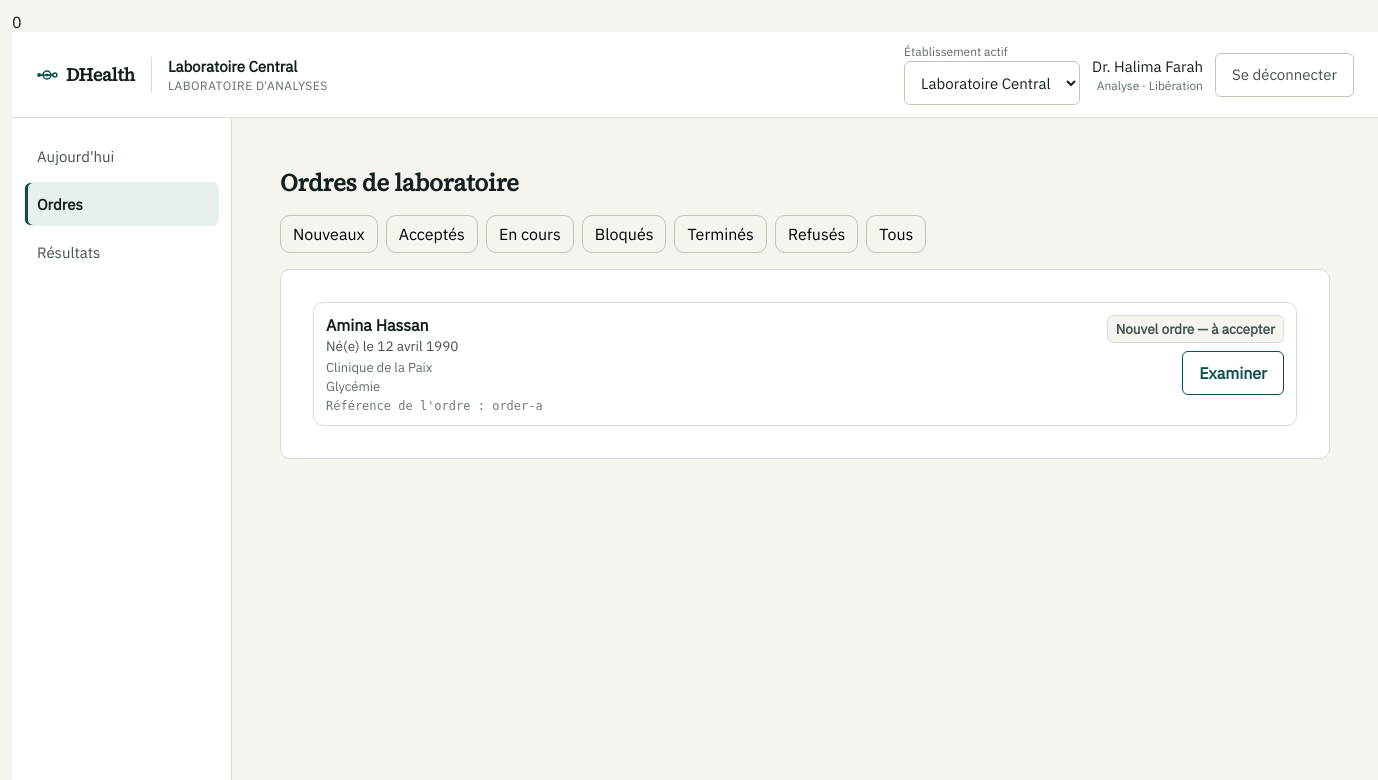
Test: changing establishment › OS3: names the new establishment immediately, not once its data arrives
Expected: the text "Amina Hassan" is shown, top-left (326, 315), bottom-right (429, 335)
Select "Laboratoire Nord" in the dropdown labelled "Établissement actif". click: x=992, y=83
box: top-left (904, 61), bottom-right (1080, 105)
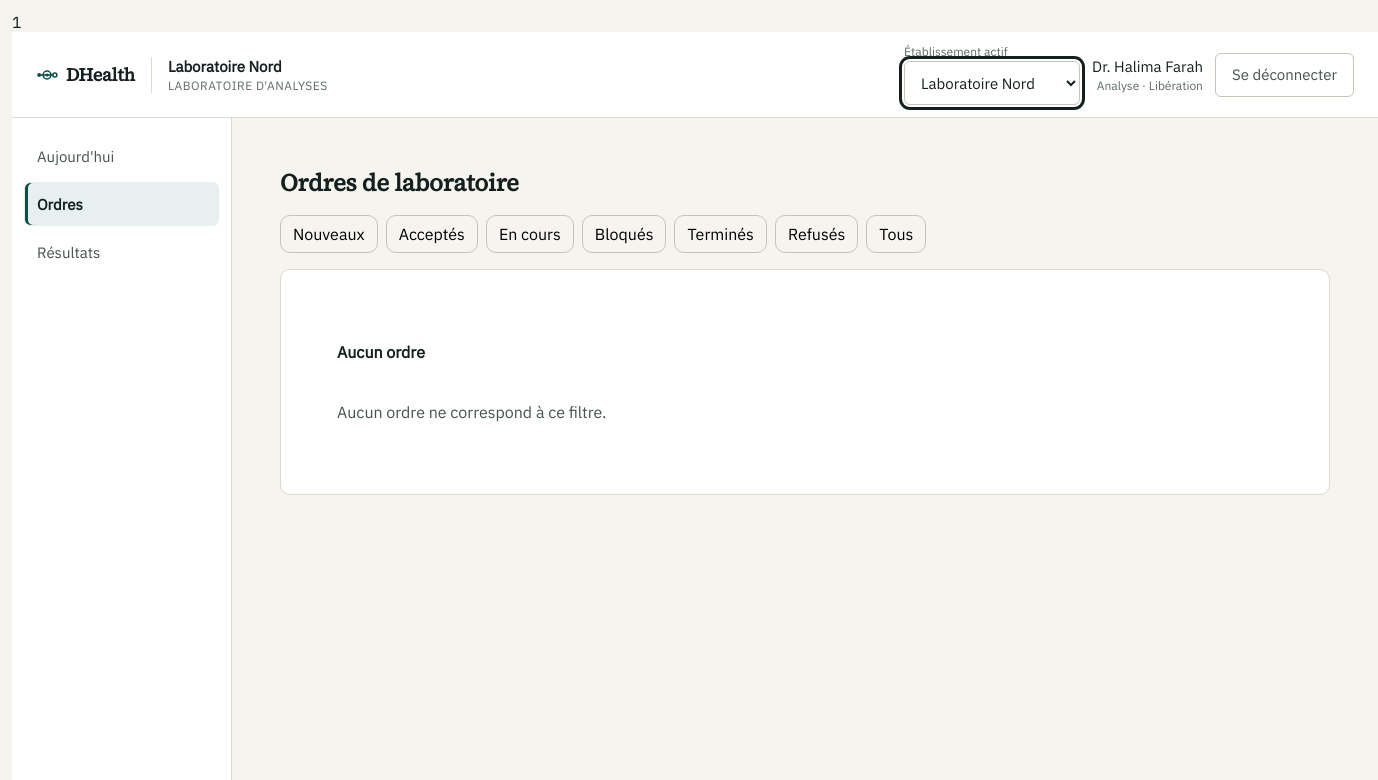
Expected: the text "Laboratoire Nord" is shown, top-left (168, 56), bottom-right (282, 76)
Expected: the text "Laboratoire Central" is gone
